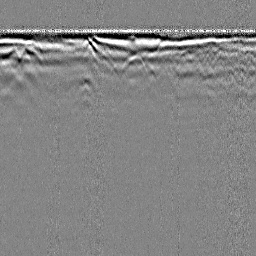cavity: (120, 54, 148, 75)
